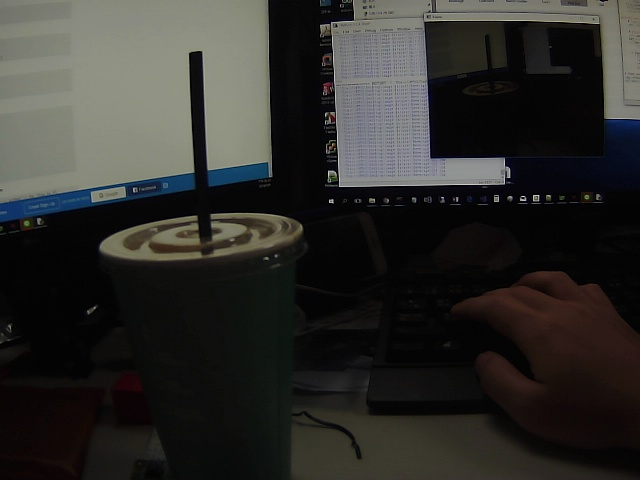beverage: (83, 46, 345, 480)
